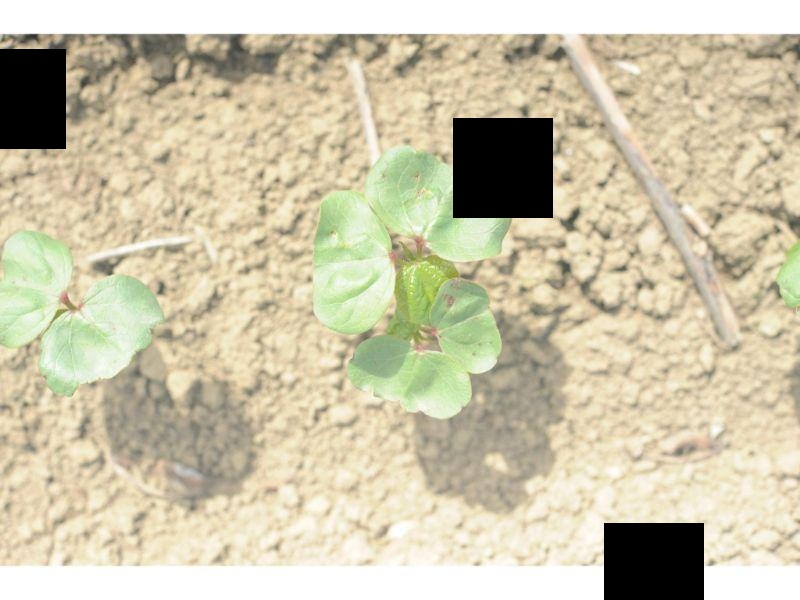cotton: (309, 146, 515, 423), (0, 227, 163, 399)
